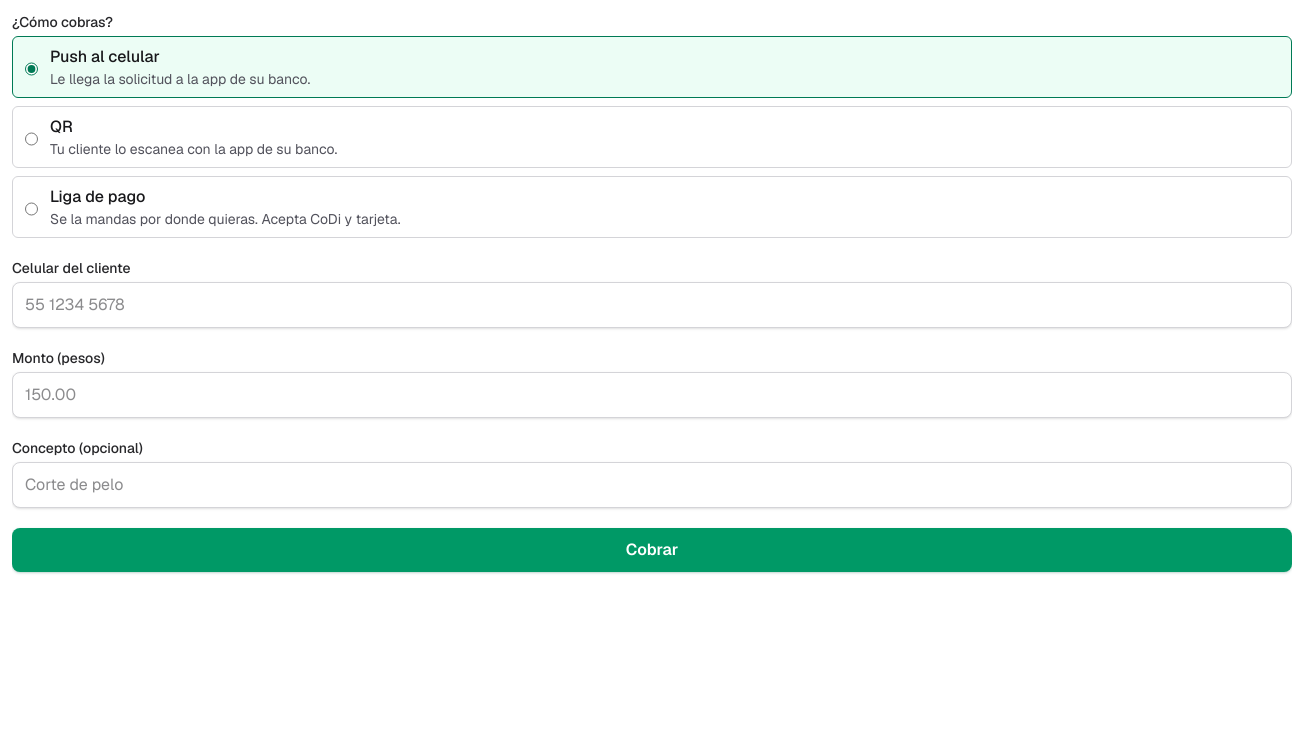
Test: NewChargeForm › con QR o liga ya no pide el celular
Later steps or results of the test are not shown.
Click the radio button labelled "QR Tu cliente lo escanea con la app de su banco." at (32, 139), box [25,119,38,159]
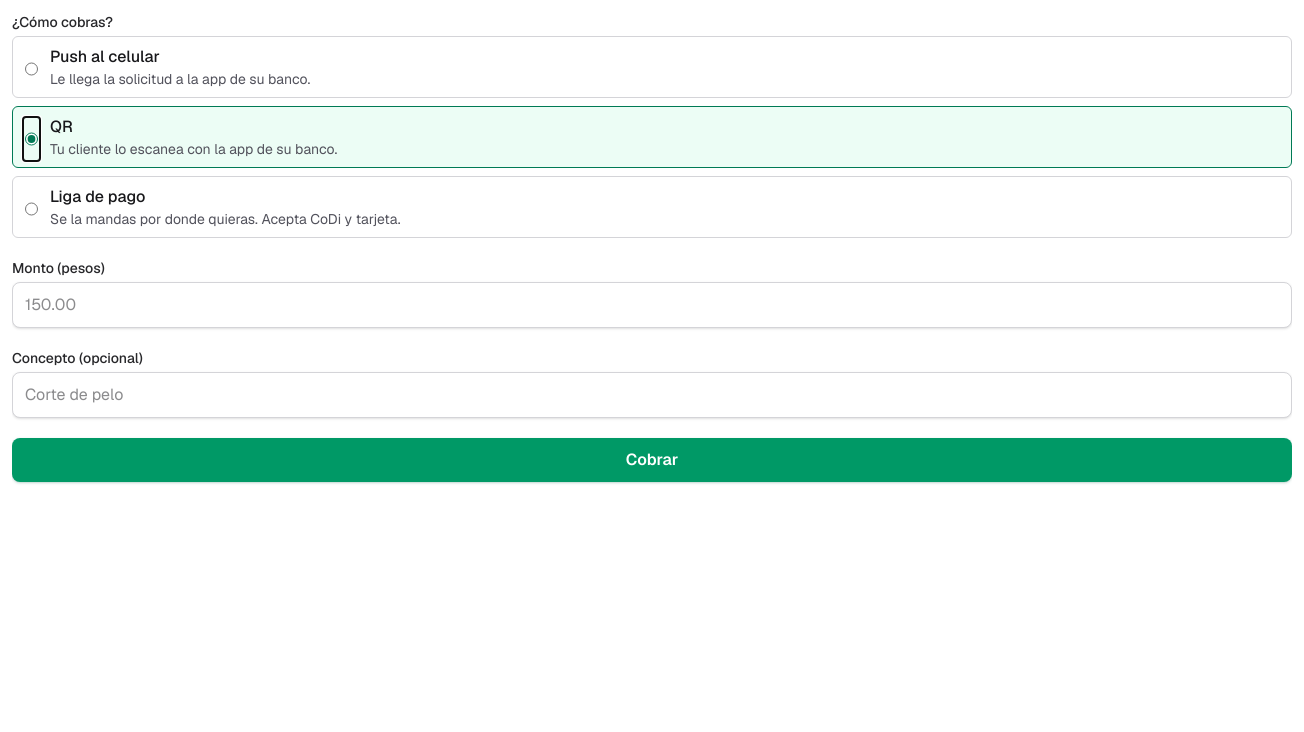
Result: the label labelled "Celular del cliente" is gone
